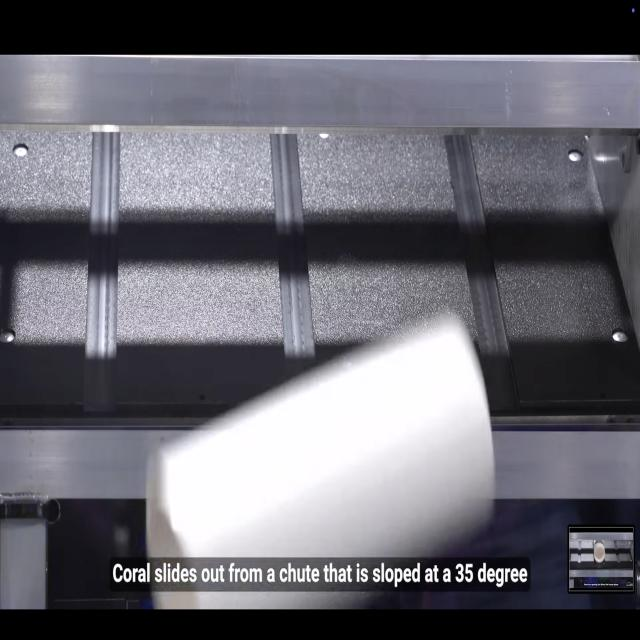coral: (141, 306, 508, 604)
